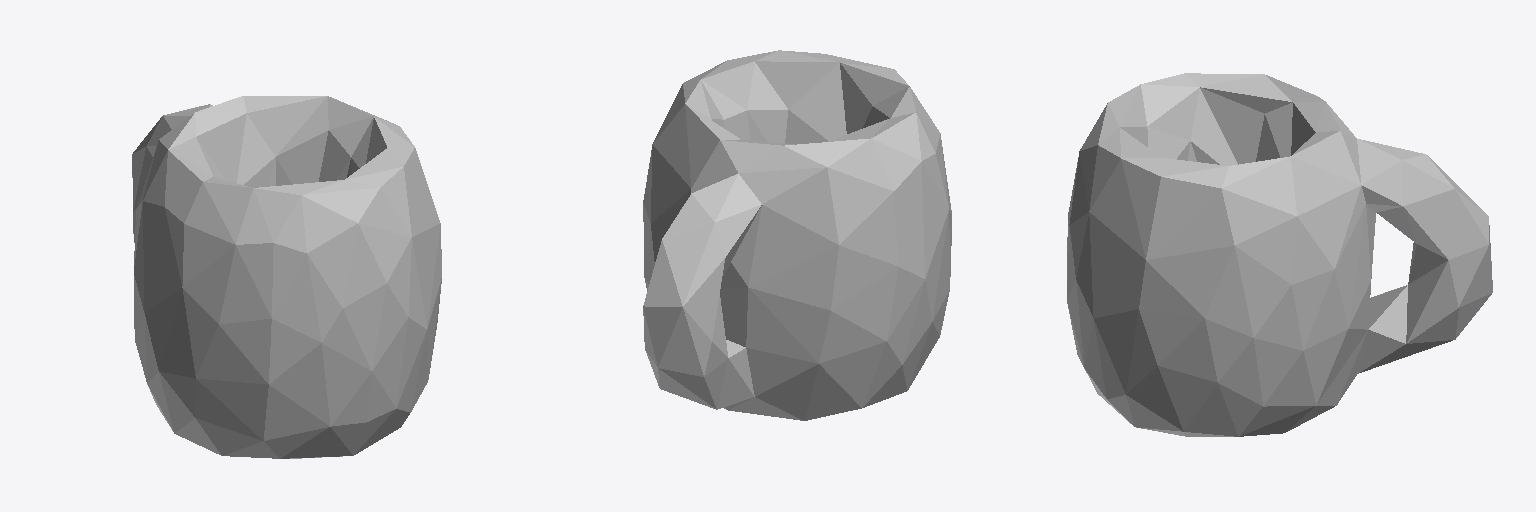
The model's file is Cup1_lowpoly.obj.
The picture shows the model from 3 angles: view 1: azimuth 30°, elevation 25°; view 2: azimuth 150°, elevation 25°; view 3: azimuth 270°, elevation 25°; orthographic projection.
Parts seen in each view (by area): view 1: Object.1; view 2: Object.1; view 3: Object.1.
Part boxes in pixels (left/top/right/bottom): Object.1: left=132, top=96, right=441, bottom=458; Object.1: left=643, top=50, right=951, bottom=420; Object.1: left=1067, top=73, right=1492, bottom=436.
Bounding box in the file's own units: 0.0722 × 0.0705 × 0.0992.